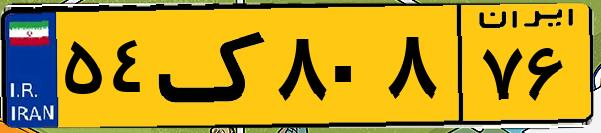0: (330, 28, 385, 110)
4: (110, 28, 158, 98)
5: (57, 26, 110, 100)
6: (525, 38, 570, 115)
7: (475, 38, 525, 113)
8: (270, 28, 330, 110), (385, 28, 445, 110)
ک: (158, 12, 270, 120)
